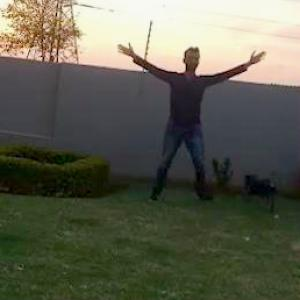takeoff: (123, 45, 254, 191)
